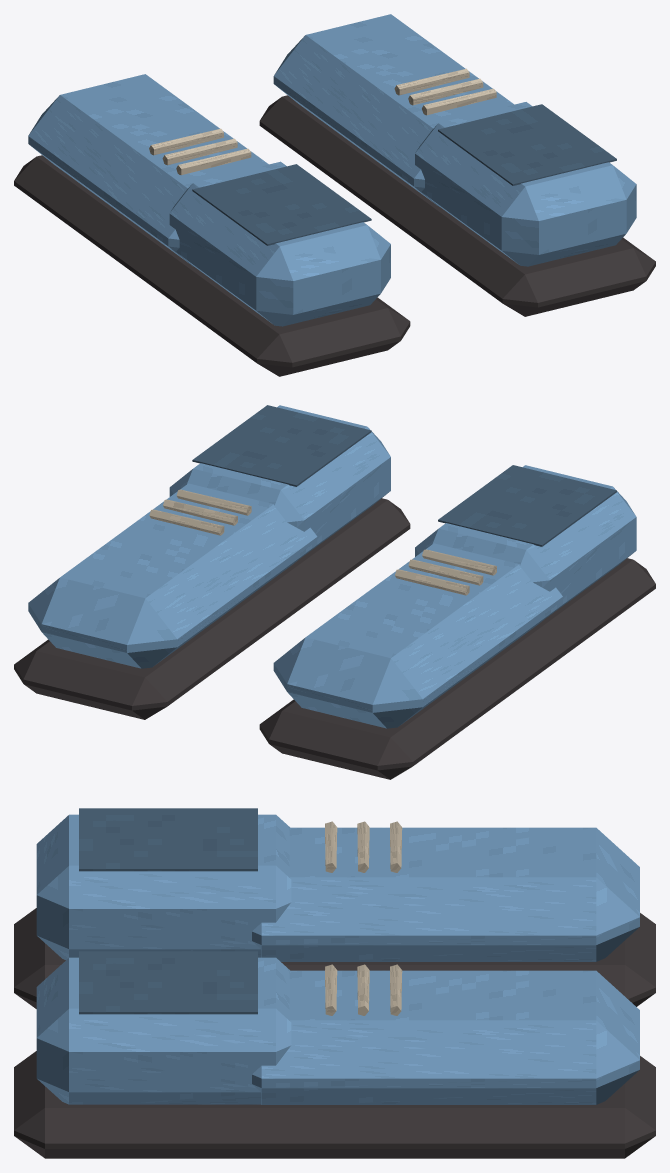
Rendered from shoes_bowling.glb.
The picture shows the model from 3 angles, top to bottom: view 1: azimuth 30°, elevation 25°; view 2: azimuth 150°, elevation 25°; view 3: azimuth 270°, elevation 25°; orthographic projection. The views are drawn at different scales.
Parts seen in each view (by area): view 1: block_shaped sole (×2), block_vamp and toe (×2), block_shaft (×2), block_opening (×2), block_lace (×6); view 2: block_vamp and toe (×2), block_shaped sole (×2), block_shaft (×2), block_opening (×2), block_lace (×6); view 3: block_vamp and toe (×2), block_shaft (×2), block_shaped sole (×2), block_opening (×2), block_lace (×6).
Boxes of the visible parts, bbox=[...] form: block_shaped sole (×2): bbox=[14, 95, 655, 376]; block_vamp and toe (×2): bbox=[28, 14, 514, 266]; block_shaft (×2): bbox=[169, 102, 636, 326]; block_opening (×2): bbox=[192, 104, 616, 245]; block_lace (×6): bbox=[149, 68, 496, 175]; block_vamp and toe (×2): bbox=[28, 483, 562, 728]; block_shaped sole (×2): bbox=[14, 498, 655, 779]; block_shaft (×2): bbox=[169, 405, 636, 616]; block_opening (×2): bbox=[192, 405, 616, 546]; block_lace (×6): bbox=[149, 489, 496, 595]; block_vamp and toe (×2): bbox=[252, 827, 639, 1104]; block_shaft (×2): bbox=[36, 814, 291, 1104]; block_shaped sole (×2): bbox=[14, 908, 655, 1158]; block_opening (×2): bbox=[79, 808, 257, 1014]; block_lace (×6): bbox=[325, 821, 402, 1015].
Size of the model in its own units: 0.1941 by 0.0565 by 0.2267.
1 material, 1 textured.
